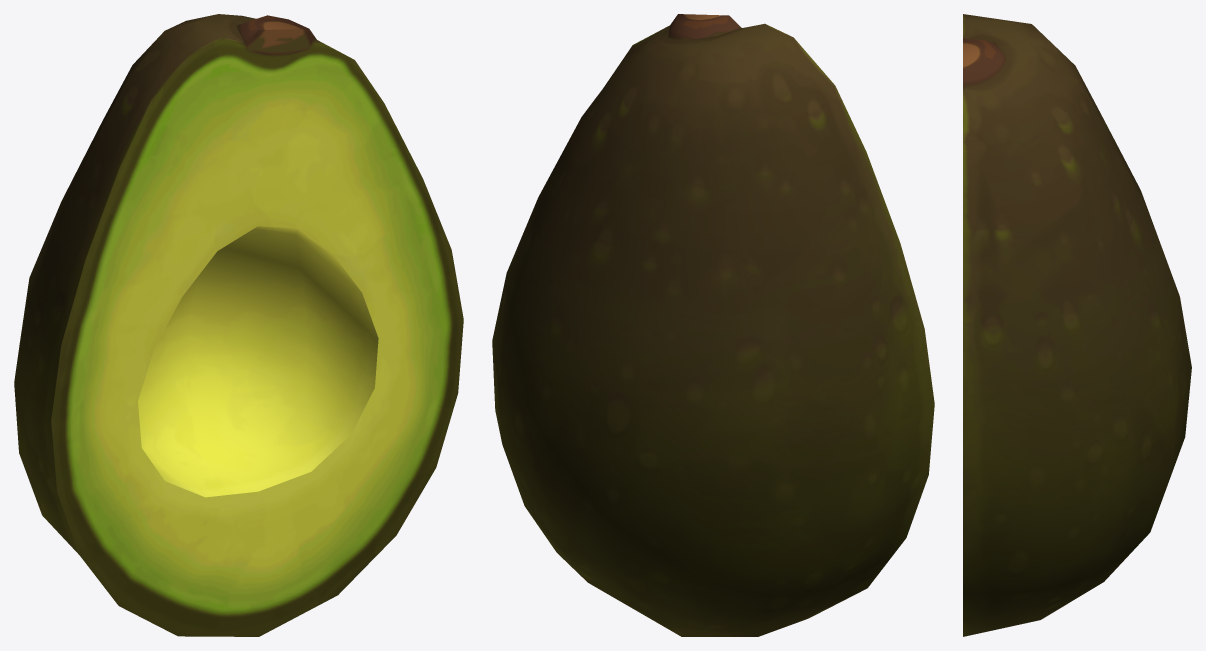
The model's file is SM_AvocadoCutB.fbx.
3 views of the same model, side by side, from view 1: azimuth 30°, elevation 25°; view 2: azimuth 150°, elevation 25°; view 3: azimuth 270°, elevation 25° (orthographic). The views are drawn at different scales.
Visible parts, largest first — view 1: SM_AvocadoCutB; view 2: SM_AvocadoCutB; view 3: SM_AvocadoCutB.
Part boxes in pixels (<box>): SM_AvocadoCutB: <box>14,14,463,636</box>; SM_AvocadoCutB: <box>492,14,934,636</box>; SM_AvocadoCutB: <box>963,14,1191,636</box>.
Size of the model in its own units: 12.08 by 17.01 by 6.05.
